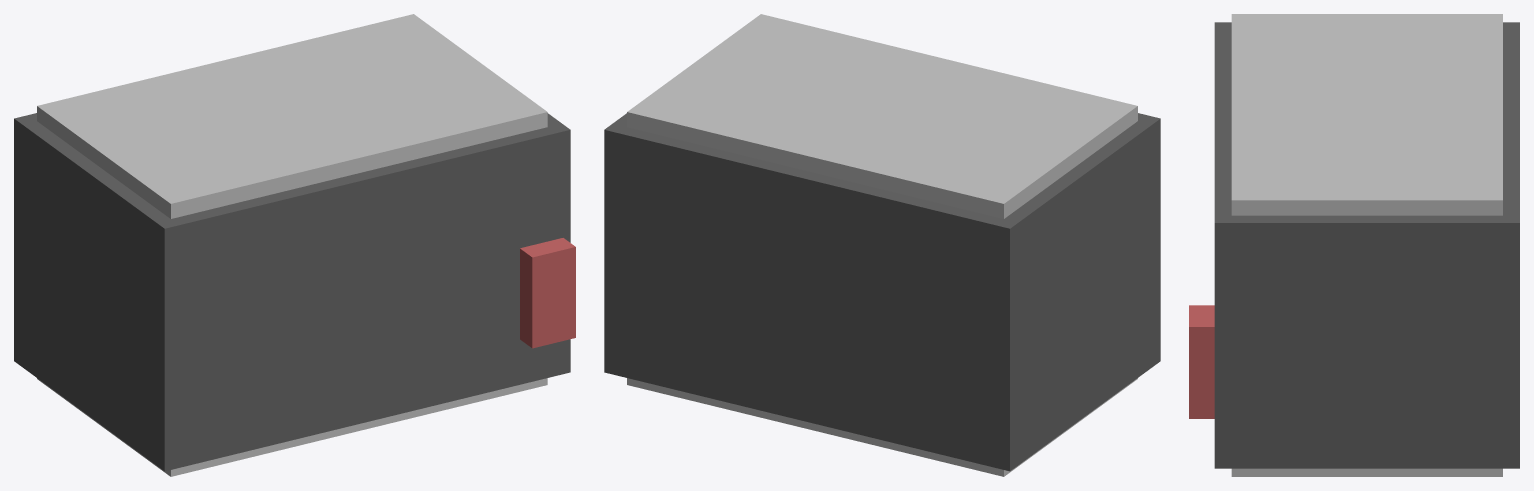
Rendered from toaster.glb.
3 views of the same model, side by side, from view 1: azimuth 30°, elevation 25°; view 2: azimuth 150°, elevation 25°; view 3: azimuth 270°, elevation 25° (orthographic).
Size of the model in its own units: 0.28 by 0.18 by 0.195.
